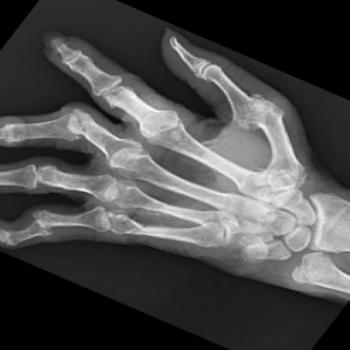Fracture: (64, 103, 91, 145), (28, 206, 52, 243)
